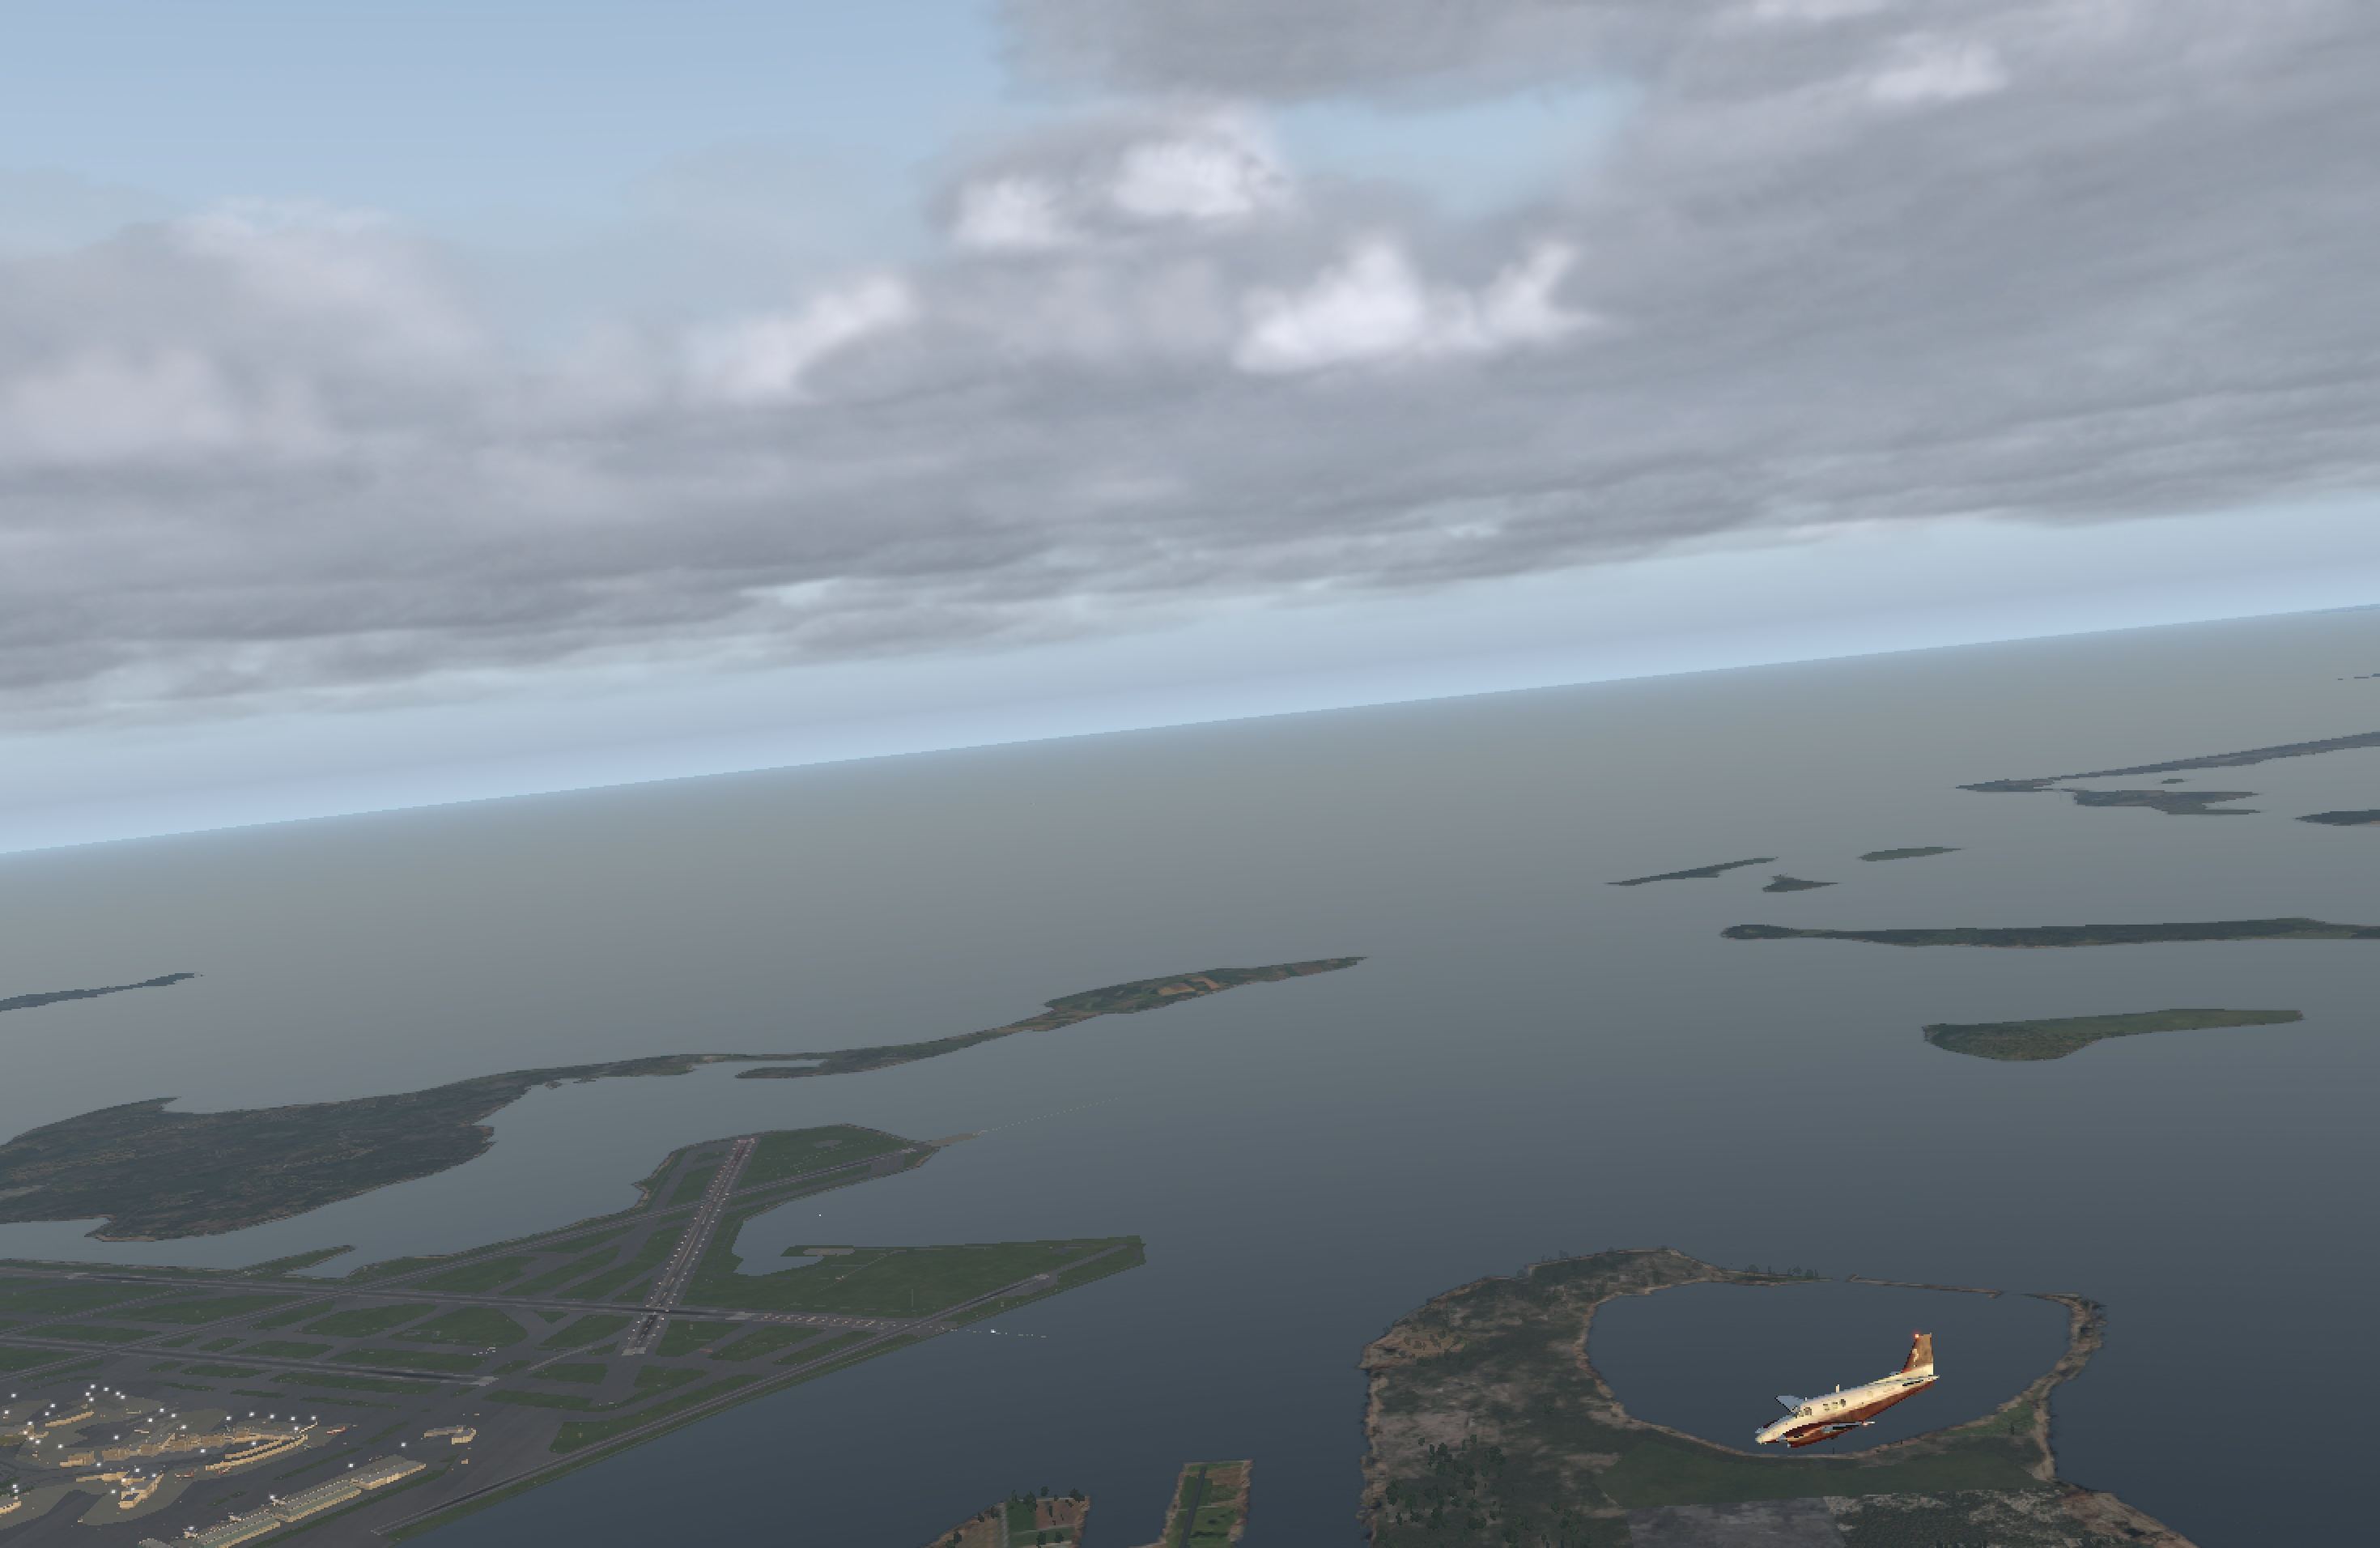aircraft: (1686, 1380, 1957, 1480)
